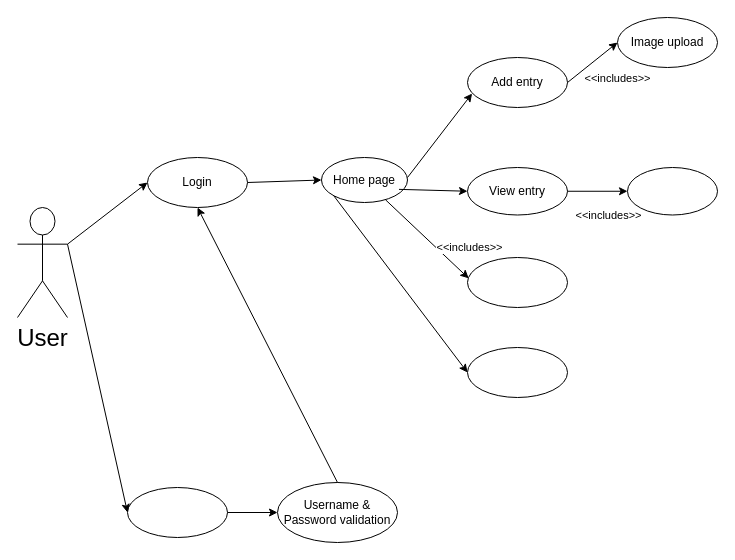
The diagram is 735 pixels wide and 560 high, and some of its shapes have lost their labels. The shapes that lost their labels are listed below. From the top down, each one's centre as x and y in pixels, then its label:
(672,190): View image
(517,282): delete entry
(517,372): Logout
(177,512): Create Account
